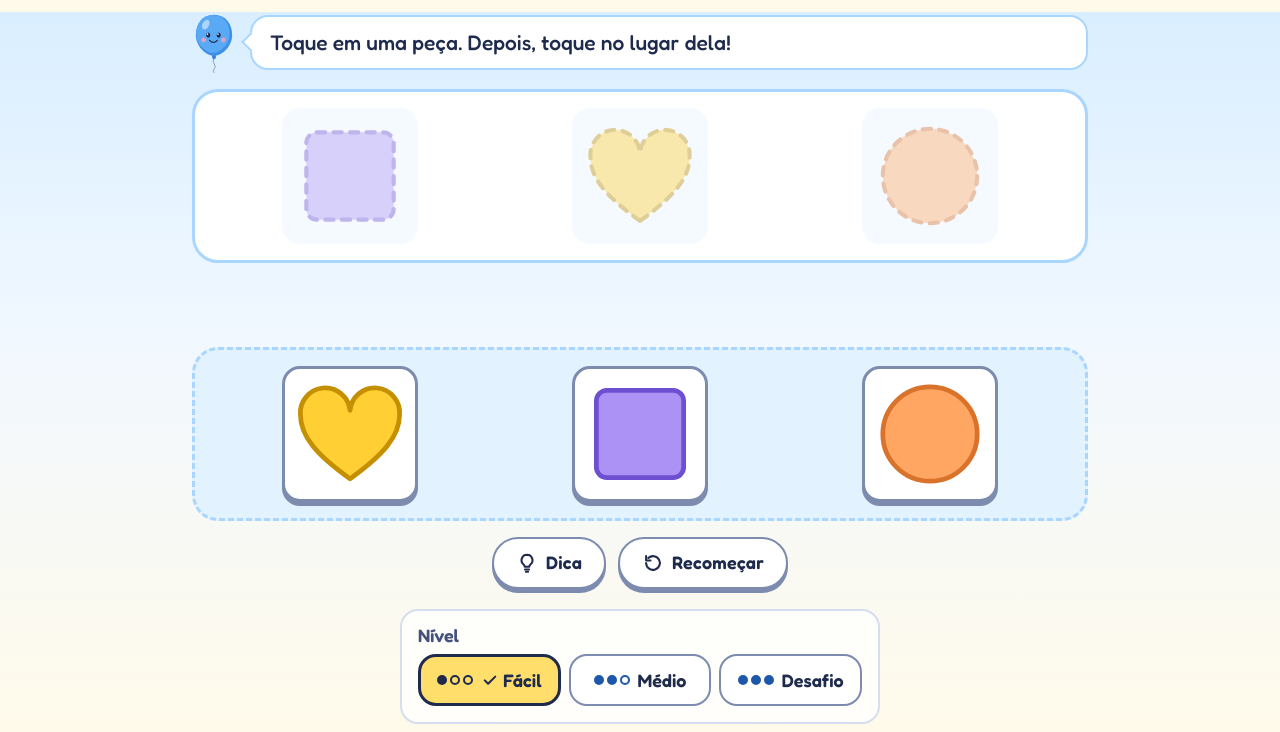
Encaixe as Formas › encaixa com dois toques: na peça e no lugar
Click the button named "Peça: ".
click(350, 434)  # box [282,366,418,502]
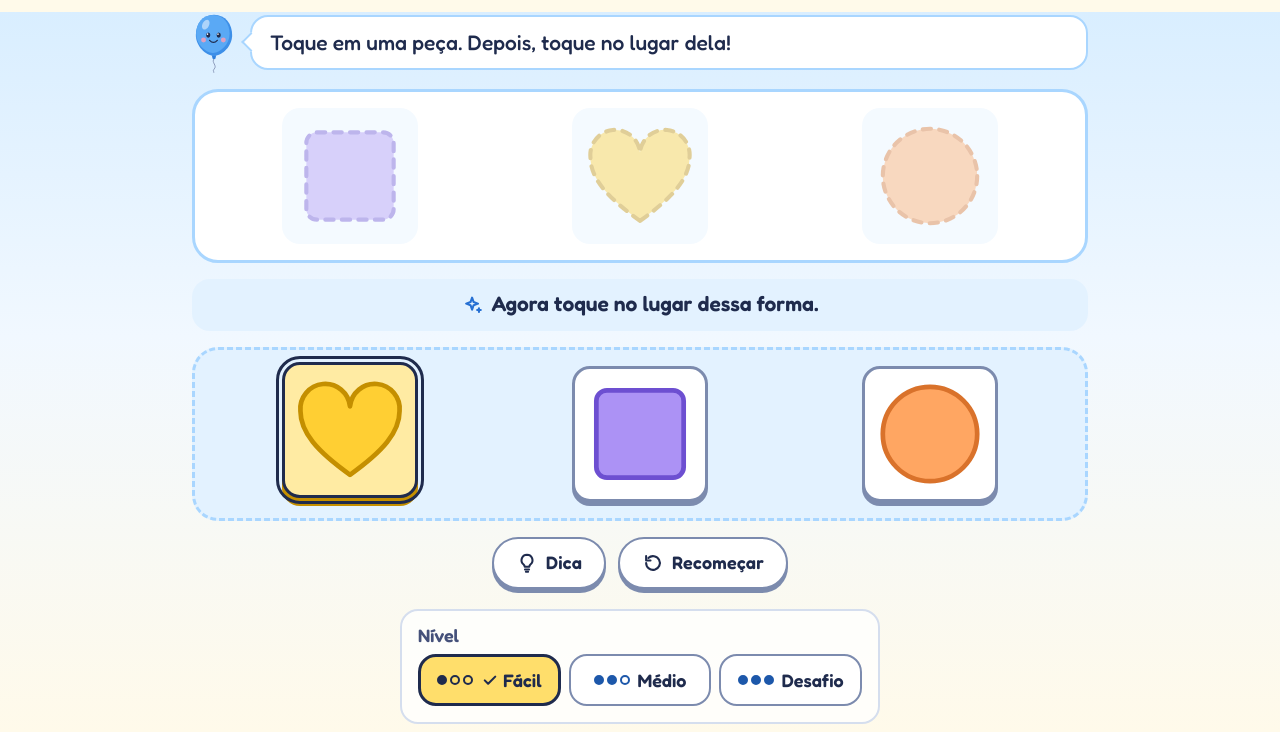
Now the button named "Peça: " is pressed, box [282,362,418,498]
Click the button named "Lugar em forma de coração".
click(640, 176)  # box [572,108,708,244]
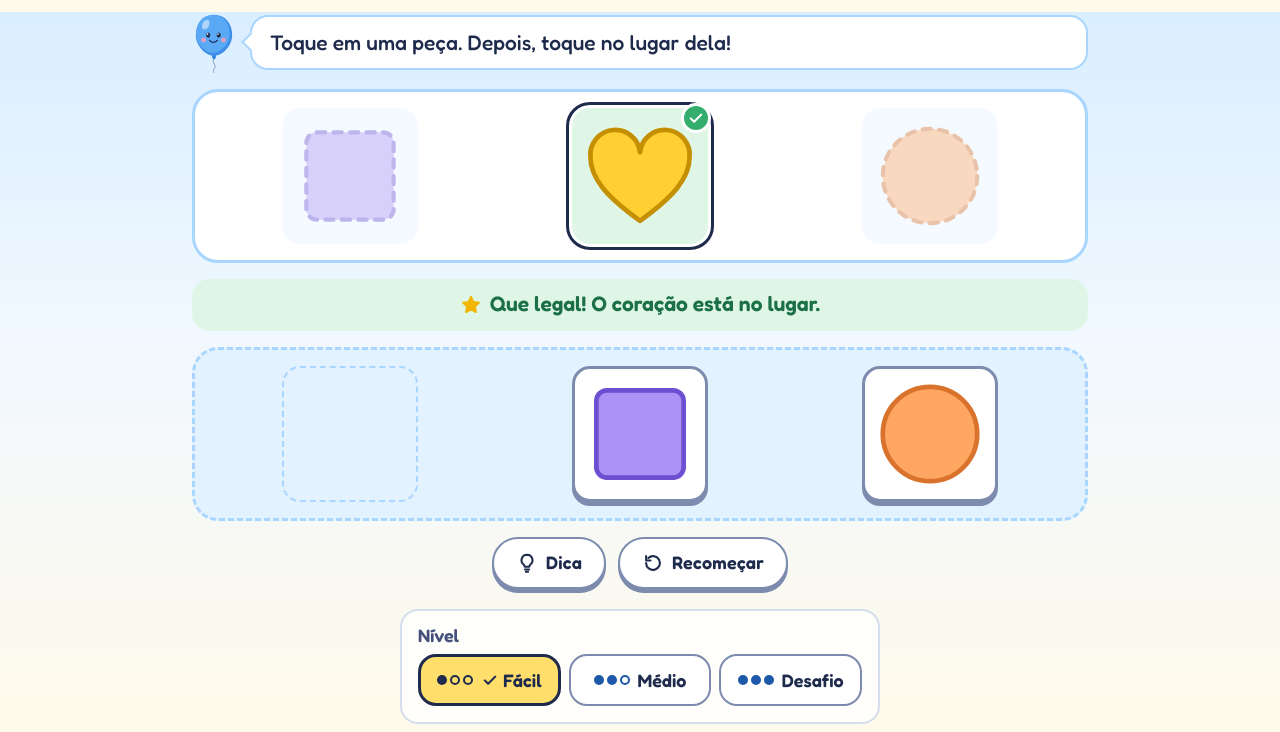
Expected: the number of buttons named "Peça: " is 2, [572,366,708,502]; [862,366,998,502]
Now the message shows "está no lugar", box [490,291,820,316]
